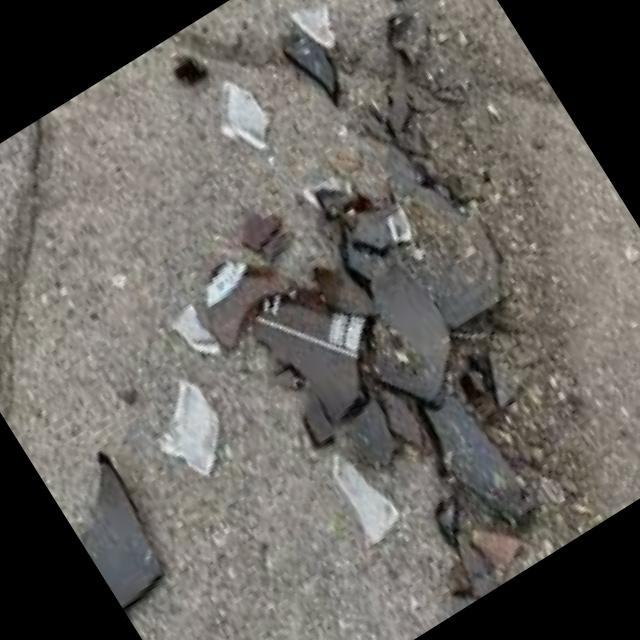PecahanKaca: (154, 99, 632, 616), (43, 442, 183, 610)
